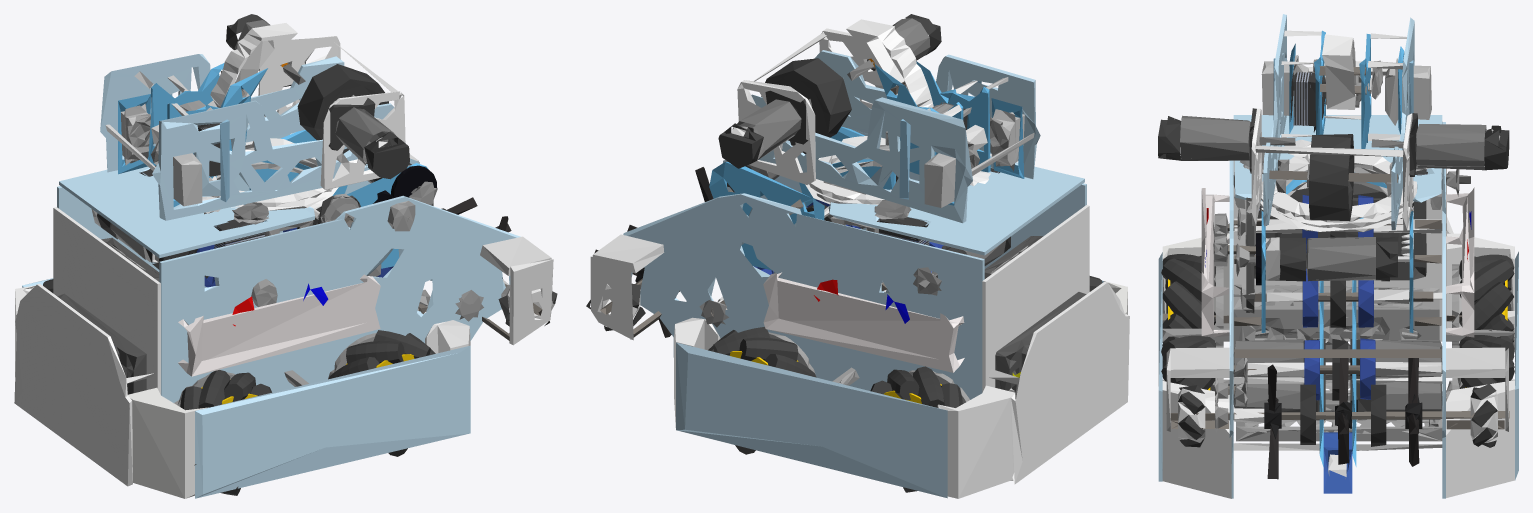
File: mechatronics-low.glb
3 views of the same model, side by side, from view 1: azimuth 30°, elevation 25°; view 2: azimuth 150°, elevation 25°; view 3: azimuth 270°, elevation 25° (orthographic). The views are drawn at different scales.
Visible parts, largest first — view 1: body, turret, flywheel, wheel_fr, wheel_br, intake_front; view 2: body, turret, flywheel, wheel_fl, wheel_bl, intake_front, intake_2; view 3: body, turret, intake_front, intake_2, intake_3, wheel_bl, flywheel, wheel_br, transfer, wheel_fl, wheel_fr.
Part boxes in pixels (bbox=[...]): body: bbox=[14, 130, 553, 498]; turret: bbox=[100, 14, 409, 220]; flywheel: bbox=[297, 64, 388, 153]; wheel_fr: bbox=[328, 330, 435, 456]; wheel_br: bbox=[174, 370, 271, 495]; intake_front: bbox=[441, 197, 557, 326]; body: bbox=[590, 126, 1129, 498]; turret: bbox=[718, 14, 1040, 223]; flywheel: bbox=[761, 58, 851, 145]; wheel_fl: bbox=[708, 327, 816, 454]; wheel_bl: bbox=[870, 366, 969, 492]; intake_front: bbox=[586, 167, 713, 337]; intake_2: bbox=[699, 266, 773, 327]; body: bbox=[1158, 115, 1518, 498]; turret: bbox=[1158, 14, 1509, 230]; intake_front: bbox=[1166, 358, 1509, 479]; intake_2: bbox=[1233, 338, 1460, 400]; intake_3: bbox=[1240, 269, 1433, 327]; wheel_bl: bbox=[1446, 254, 1514, 364]; flywheel: bbox=[1307, 134, 1354, 221]; wheel_br: bbox=[1161, 254, 1228, 362]; transfer: bbox=[1227, 195, 1446, 252]; wheel_fl: bbox=[1452, 335, 1514, 389]; wheel_fr: bbox=[1161, 335, 1223, 391].
Bounding box in the file's own units: 0.4284 × 0.3529 × 0.2932.
